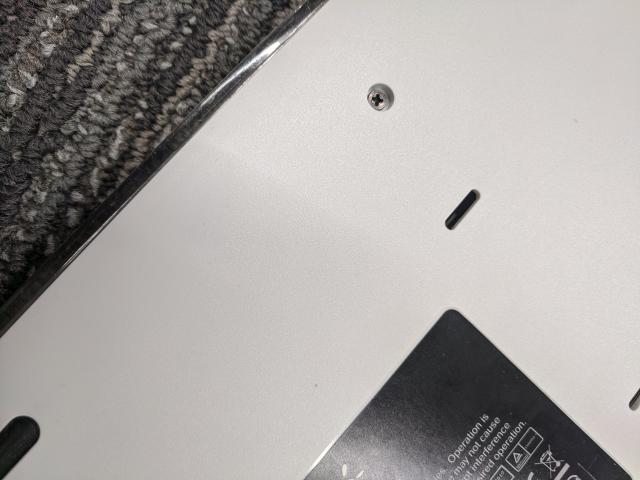CRS: (367, 88, 392, 112)
